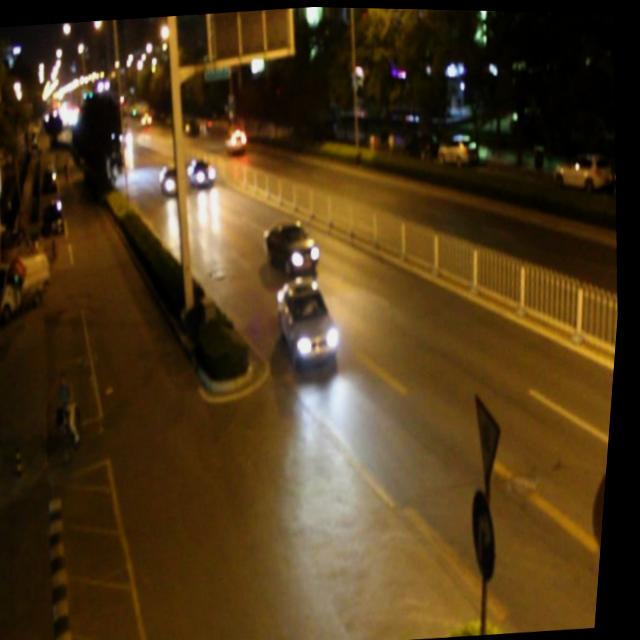car: (274, 274, 349, 367), (263, 214, 325, 273), (186, 151, 220, 187), (158, 162, 193, 196), (222, 121, 250, 153)
